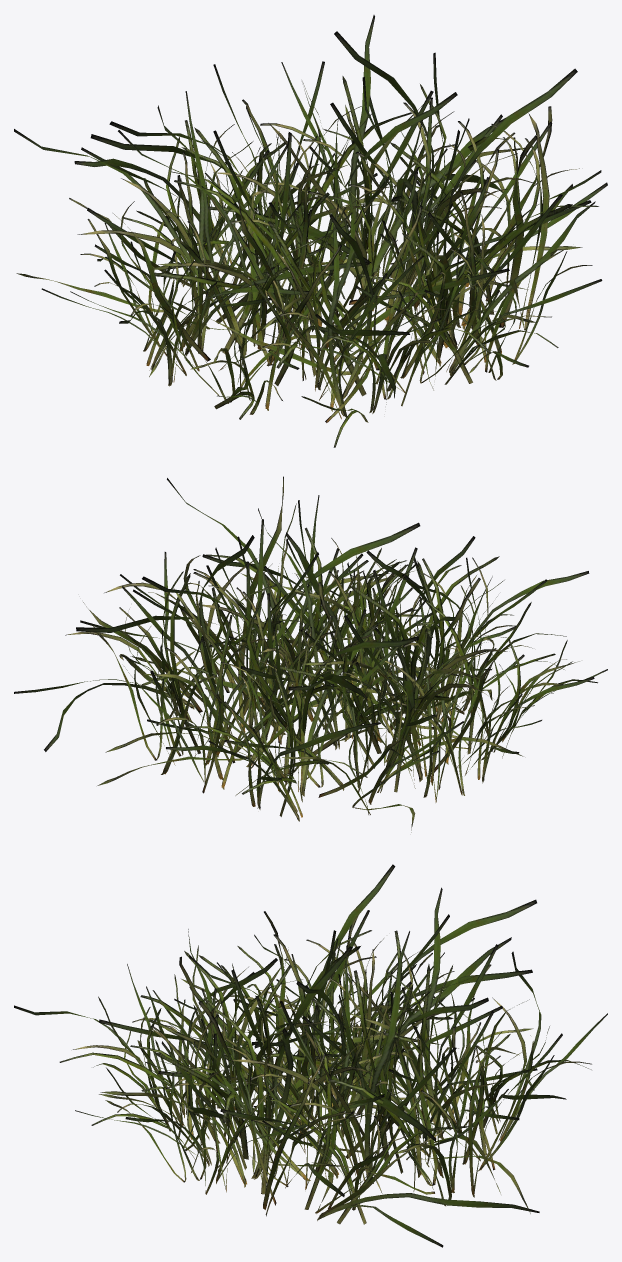
3 renders of one model, top to bottom at view 1: azimuth 30°, elevation 25°; view 2: azimuth 150°, elevation 25°; view 3: azimuth 270°, elevation 25°, orthographic. The views are drawn at different scales.
Parts seen in each view (by area): view 1: grass_medium_01_large_a_LOD0; view 2: grass_medium_01_large_a_LOD0; view 3: grass_medium_01_large_a_LOD0.
Part boxes in pixels (x1,y1,x2,y2): grass_medium_01_large_a_LOD0: (14,15,607,447); grass_medium_01_large_a_LOD0: (14,476,607,832); grass_medium_01_large_a_LOD0: (14,864,607,1247).
Size of the model in its own units: 0.317 by 0.1467 by 0.3266.
1 material, 1 textured.
